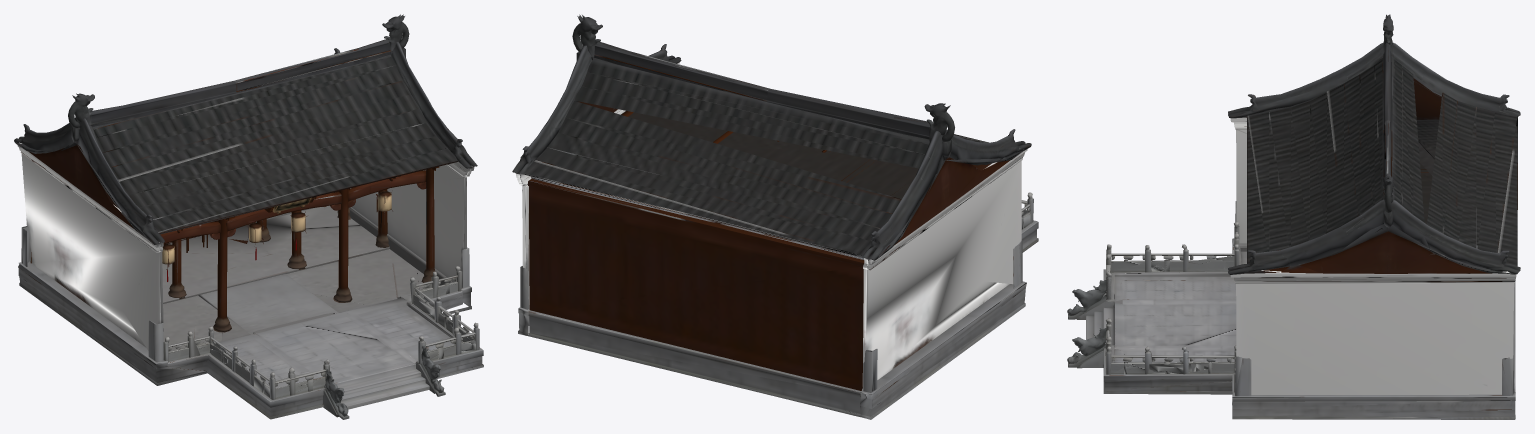
Rendered from fuya_zhengtang.glb.
The picture shows the model from 3 angles, left to right: view 1: azimuth 30°, elevation 25°; view 2: azimuth 150°, elevation 25°; view 3: azimuth 270°, elevation 25°; orthographic projection. The views are drawn at different scales.
Parts seen in each view (by area): view 1: geometry_0; view 2: geometry_0; view 3: geometry_0.
Part boxes in pixels (x1,y1,x2,y2): geometry_0: (14, 14, 483, 419); geometry_0: (512, 14, 1038, 419); geometry_0: (1067, 14, 1520, 419).
Bounding box in the file's own units: 0.8462 × 0.5693 × 0.9492.
Materials: 1 (1 with a texture image).
